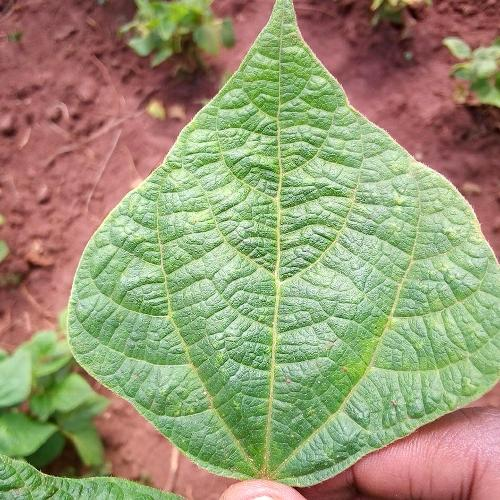mozaik: (362, 172, 470, 397), (155, 390, 244, 432)
sehat: (201, 165, 340, 353)
